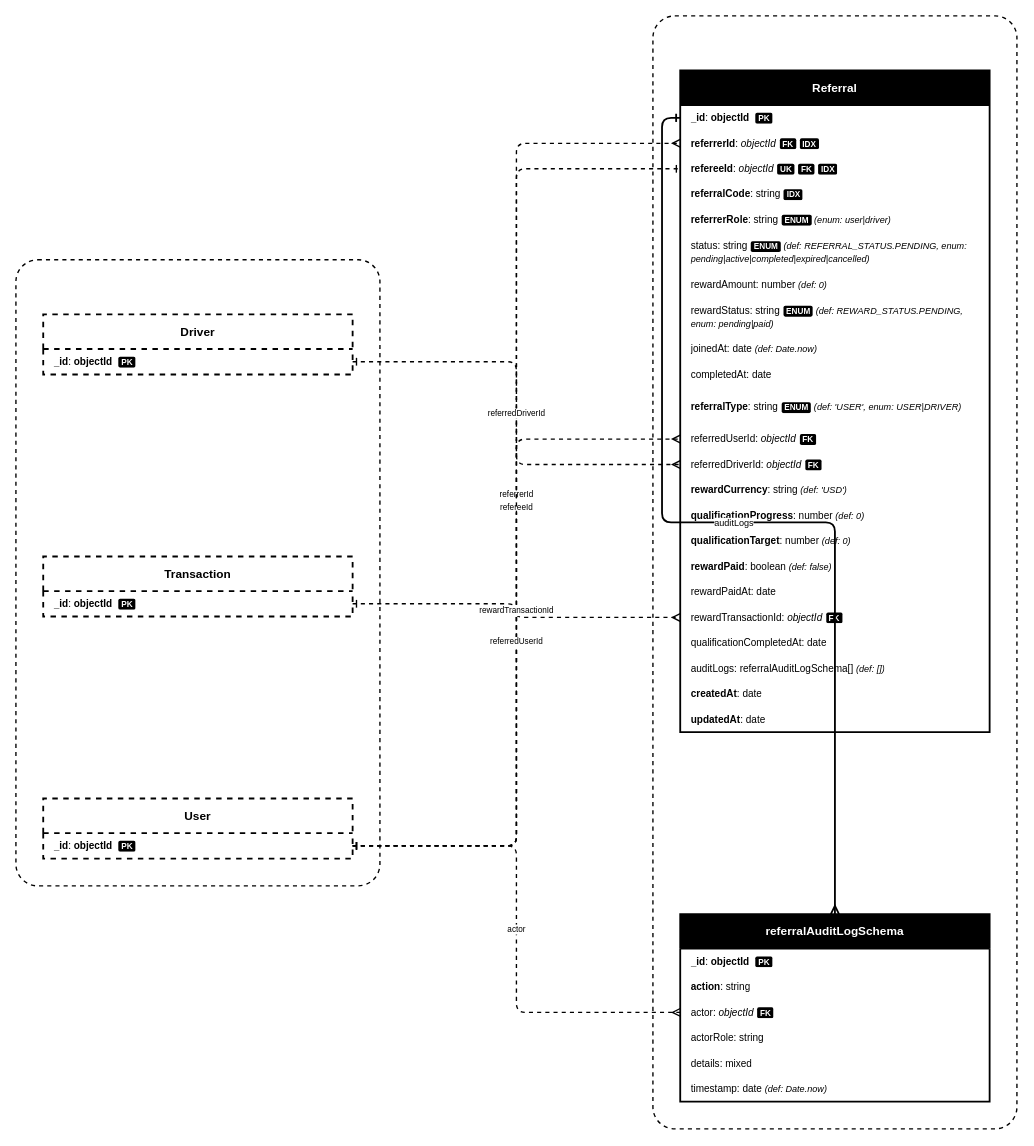
This 1034x1146 diagram has some shape labels left out. Here are the shapes that lost their labels. From the top down, the box of each, then its label:
(15, 259, 380, 886): Parent Lookups / External Dependencies
(652, 15, 1017, 1129): Core Module: Referral
